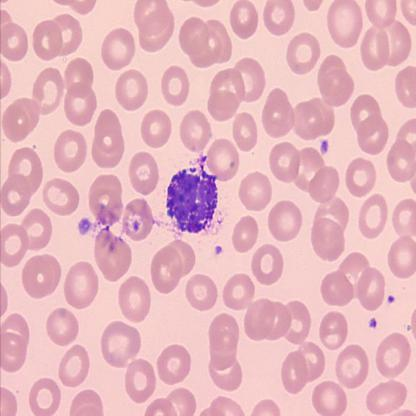Basophil: (165, 162, 223, 236)
